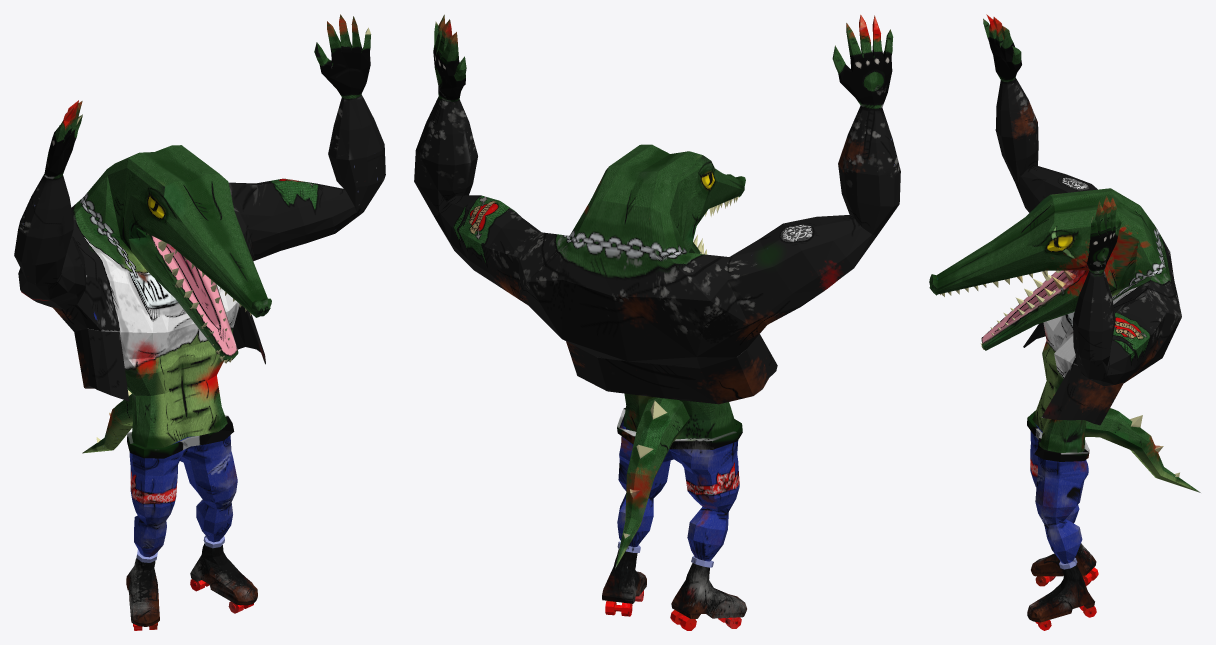
The model's file is cocodrilaBonesSelect_000030.obj.
3 renders of one model, left to right at view 1: azimuth 30°, elevation 25°; view 2: azimuth 150°, elevation 25°; view 3: azimuth 270°, elevation 25°, orthographic. The views are drawn at different scales.
Visible parts, largest first — view 1: Crocodile.002_Cylinder.002; view 2: Crocodile.002_Cylinder.002; view 3: Crocodile.002_Cylinder.002.
Part boxes in pixels (left/top/right/bottom): Crocodile.002_Cylinder.002: left=14, top=14, right=385, bottom=630; Crocodile.002_Cylinder.002: left=414, top=14, right=900, bottom=630; Crocodile.002_Cylinder.002: left=929, top=14, right=1200, bottom=630.
Bounding box in the file's own units: 6.26 × 8.44 × 3.97.
